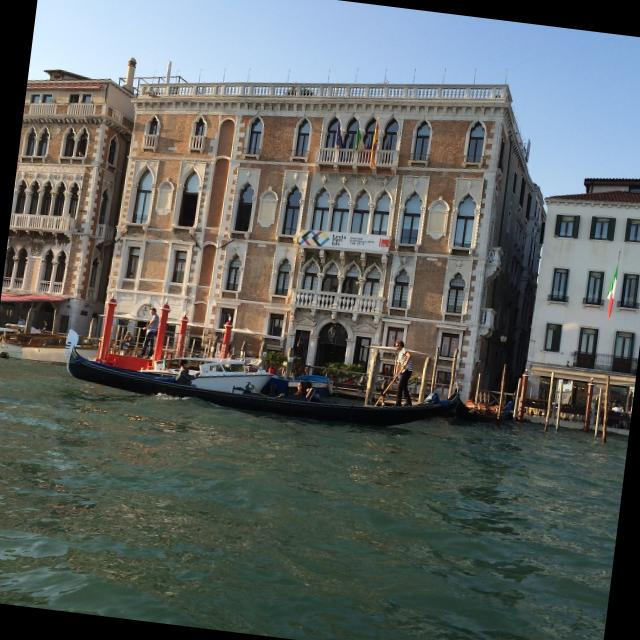boat: (38, 314, 482, 456)
